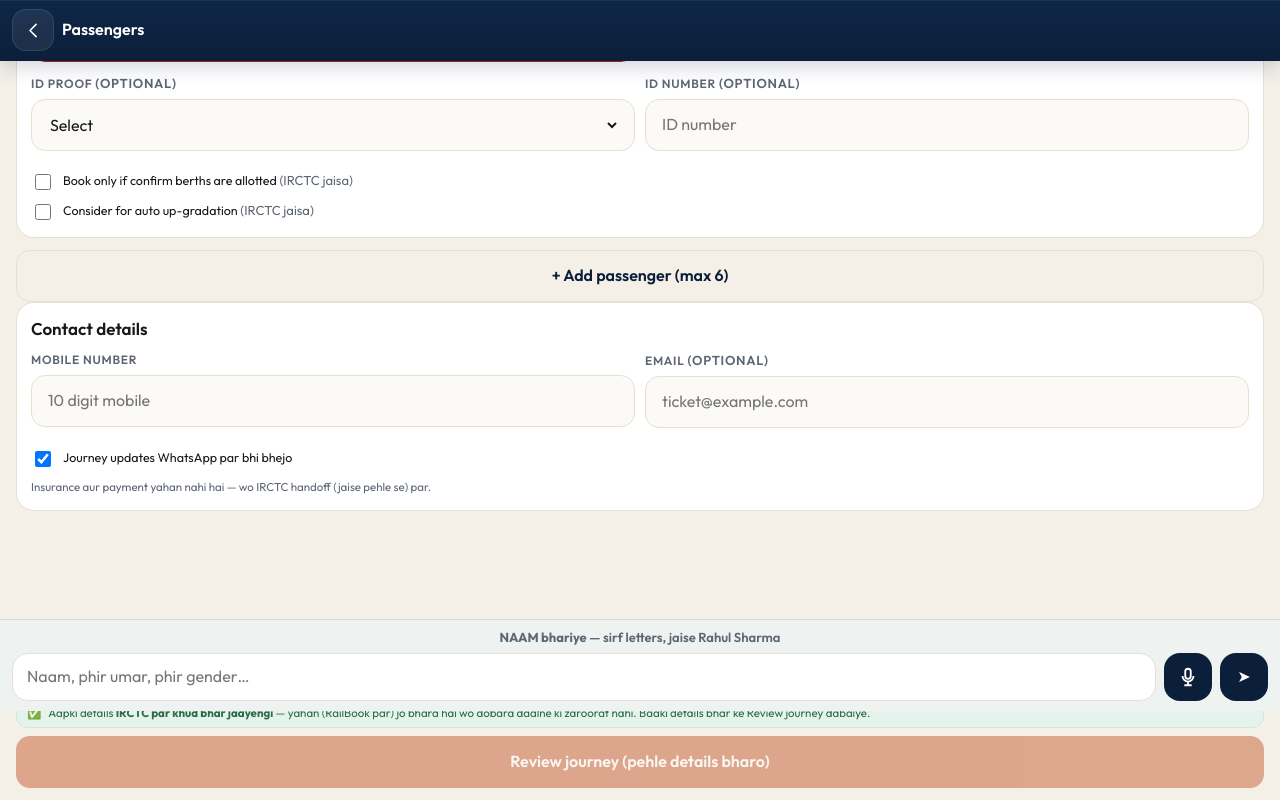
Round-20 · IRCTC jaisa passenger form › mobile sirf 10 digit (IRCTC jaisa) — warna review block
(page scrolled)
Step 1. Type "98abc76543210" into the field labelled "Mobile number" → (333, 401), box [46, 376, 620, 426]
(page scrolled)
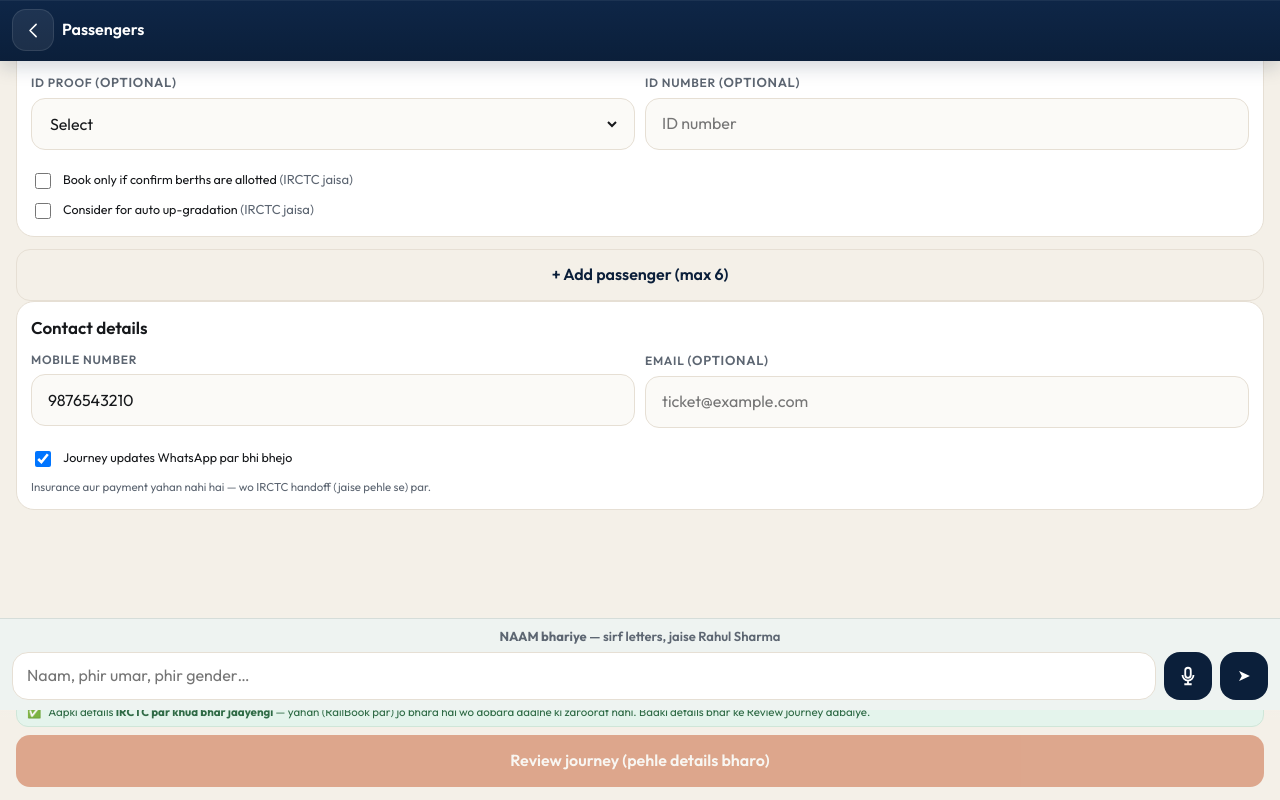
Expected: the field labelled "Mobile number" holds "9876543210", [46, 375, 620, 425]
